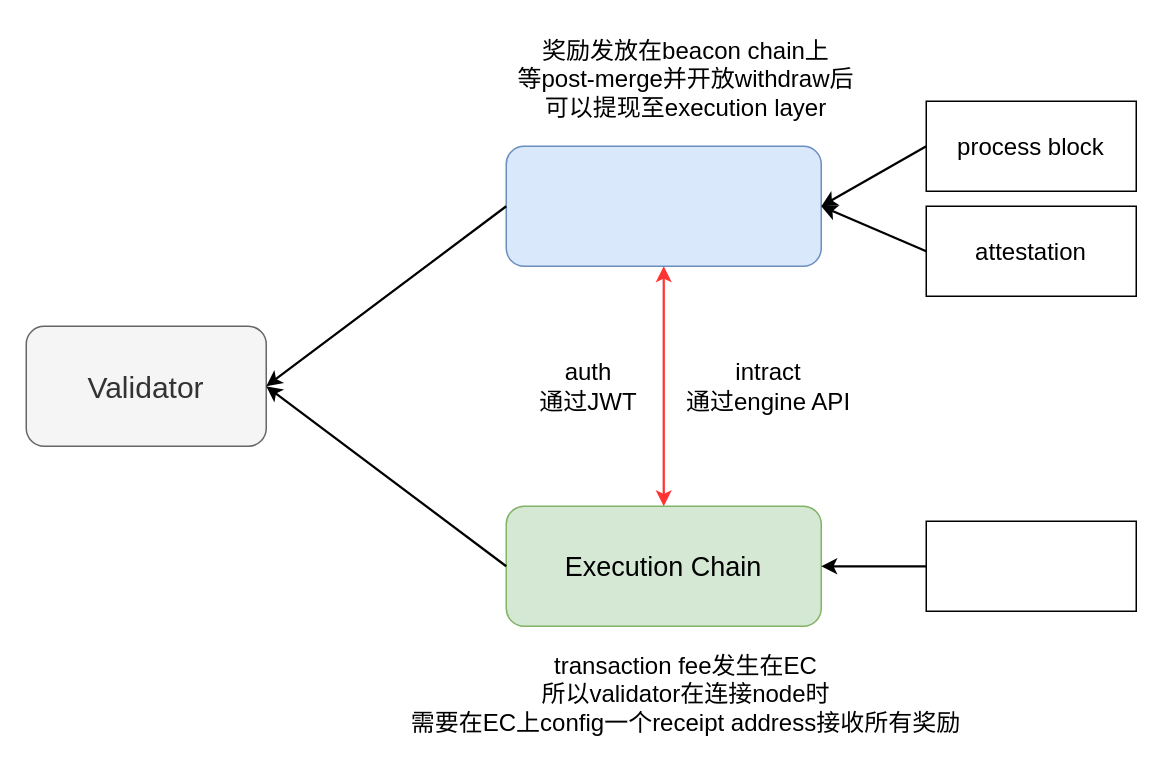
Image size: 1163x771. Some labels were removed from this diagram. Here are the shapes that lost their labels. From the top down, the centre of each, then its label:
pixel 663 205: Beacon chain
pixel 1030 565: transaction fee
